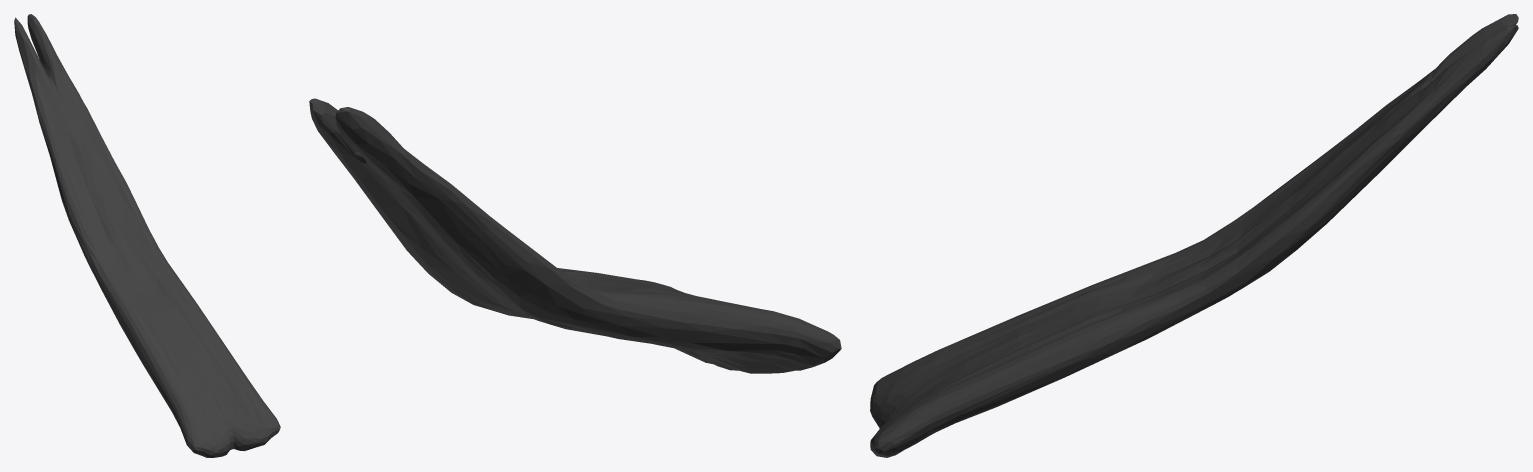
File: m_rectus_capitis_dorsalis_major.glb
The picture shows the model from 3 angles, left to right: view 1: azimuth 30°, elevation 25°; view 2: azimuth 150°, elevation 25°; view 3: azimuth 270°, elevation 25°; orthographic projection. The views are drawn at different scales.
Visible parts, largest first — view 1: m_rectus_capitis_dorsalis_major; view 2: m_rectus_capitis_dorsalis_major; view 3: m_rectus_capitis_dorsalis_major.
Boxes of the visible parts, left/top/right/bottom form: m_rectus_capitis_dorsalis_major: left=14, top=14, right=280, bottom=457; m_rectus_capitis_dorsalis_major: left=309, top=98, right=841, bottom=373; m_rectus_capitis_dorsalis_major: left=870, top=14, right=1518, bottom=457.
Size of the model in its own units: 0.00056 by 0.00168 by 0.00233.
Materials: 1 (1 with a texture image).
